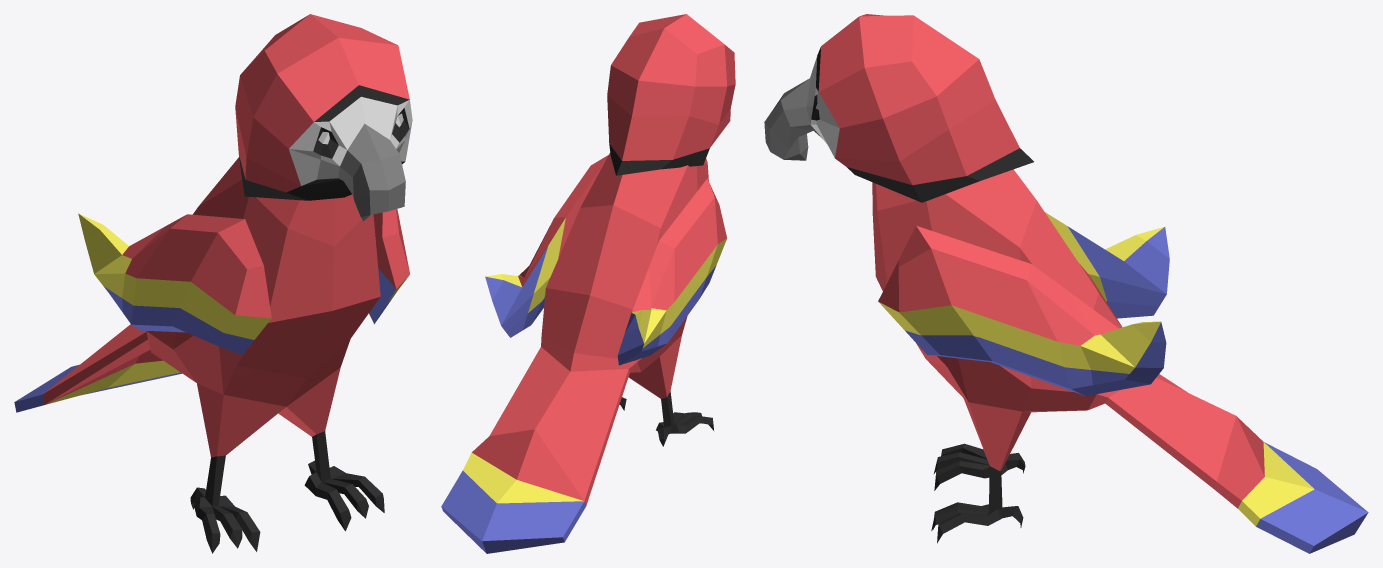
The model's file is low-poly-pirate-parrot--3-pieces-cff0ab.glb.
The picture shows the model from 3 angles, left to right: view 1: azimuth 30°, elevation 25°; view 2: azimuth 150°, elevation 25°; view 3: azimuth 270°, elevation 25°; orthographic projection. The views are drawn at different scales.
Parts seen in each view (by area): view 1: PropMesh; view 2: PropMesh; view 3: PropMesh.
Part boxes in pixels (x1,y1,x2,y2): PropMesh: [14, 14, 412, 553]; PropMesh: [441, 14, 735, 553]; PropMesh: [764, 14, 1368, 553].
Bounding box in the file's own units: 0.1789 × 0.45 × 0.478.
Materials: 3 (3 with a texture image).
